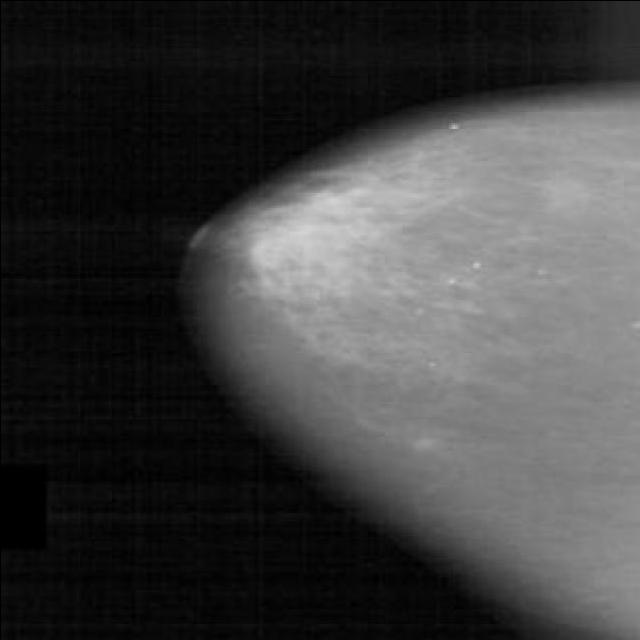tumor: (252, 180, 420, 306)
